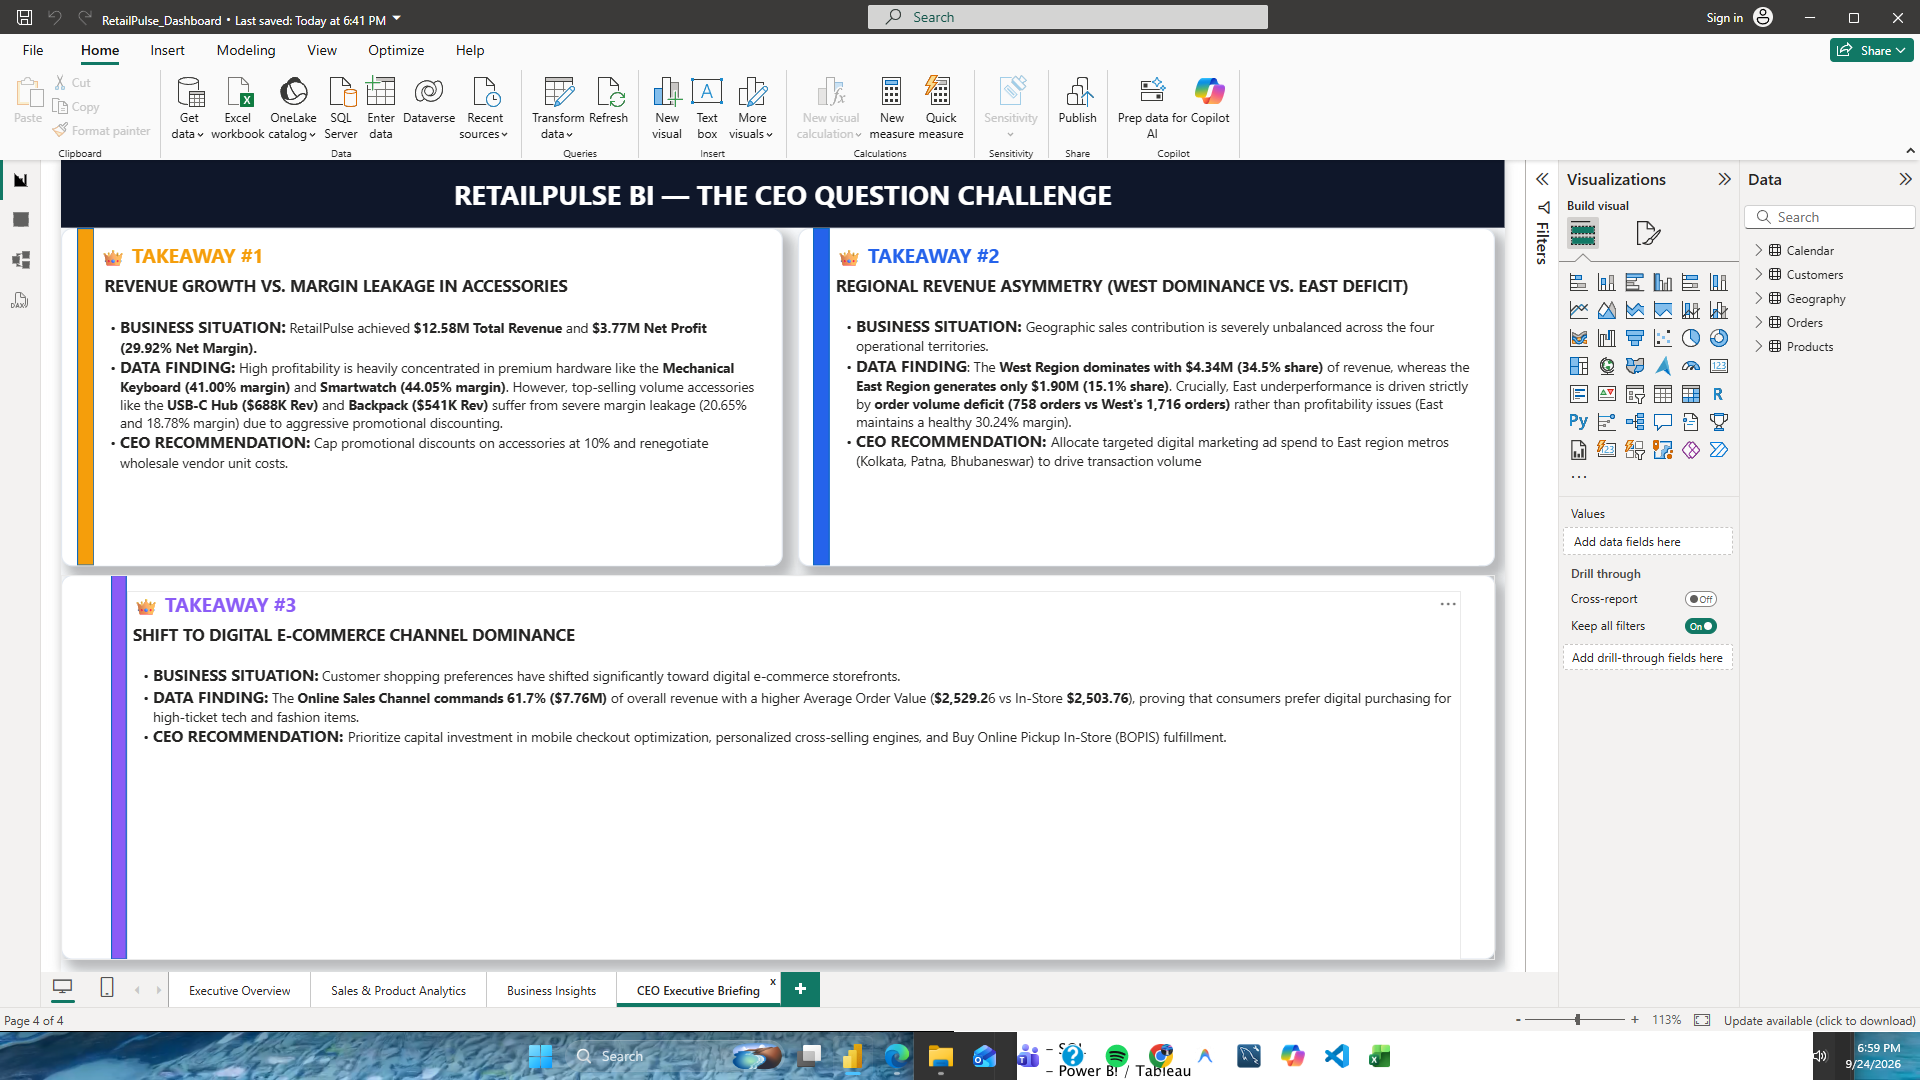

Layout of this report page (visuals, bound fields, positions):
{"tool":"powerbi","page":{"name":"CEO Executive Briefing","canvas":[1280,720],"ordinal":3},"visuals":[{"type":"shape","box":[0,0,1280,60],"z":0},{"type":"shape","box":[0,60.3,640.2,299.7],"z":0,"group":"g1"},{"type":"shape","box":[653.5,60.3,618,299.7],"z":0,"group":"g2"},{"type":"shape","box":[0,368,1271.5,341.4],"z":0,"group":"g3"},{"type":"group","id":"g1","title":"Group 1","box":[0,60.3,640.2,299.7],"z":1000},{"type":"textbox","title":"👑 TAKEAWAY #1","box":[29.5,72.5,595.3,287.5],"z":1000,"group":"g1"},{"type":"textbox","title":"👑 TAKEAWAY #2 ","box":[682,72.5,574.7,287.5],"z":1000,"group":"g2"},{"type":"textbox","title":"👑 TAKEAWAY #3 ","box":[58.7,381.9,1182.4,327.4],"z":1000,"group":"g3"},{"type":"shape","box":[14.2,60.3,15.3,299.4],"z":2000,"group":"g1"},{"type":"group","id":"g2","title":"Group 1","box":[653.5,60.3,618,299.7],"z":2000},{"type":"shape","box":[667.2,60.3,14.8,299.4],"z":2000,"group":"g2"},{"type":"shape","box":[44,368,14,341],"z":2000,"group":"g3"},{"type":"group","id":"g3","title":"Group 1","box":[0,368,1271.5,341.4],"z":3000}]}

Visuals, with their boxes on the page's 1280x720 design canvas (x1, y1, x2, y2). These are canvas units, not pixel positions in the 1920x1080 screenshot, which may show the page scaled, cropped or inside an application window:
shape: [0,0,1280,60]
shape: [0,60,640,360]
shape: [654,60,1272,360]
shape: [0,368,1272,709]
"Group 1" group: [0,60,640,360]
"👑 TAKEAWAY #1" textbox: [30,72,625,360]
"👑 TAKEAWAY #2 " textbox: [682,72,1257,360]
"👑 TAKEAWAY #3 " textbox: [59,382,1241,709]
shape: [14,60,30,360]
"Group 1" group: [654,60,1272,360]
shape: [667,60,682,360]
shape: [44,368,58,709]
"Group 1" group: [0,368,1272,709]
